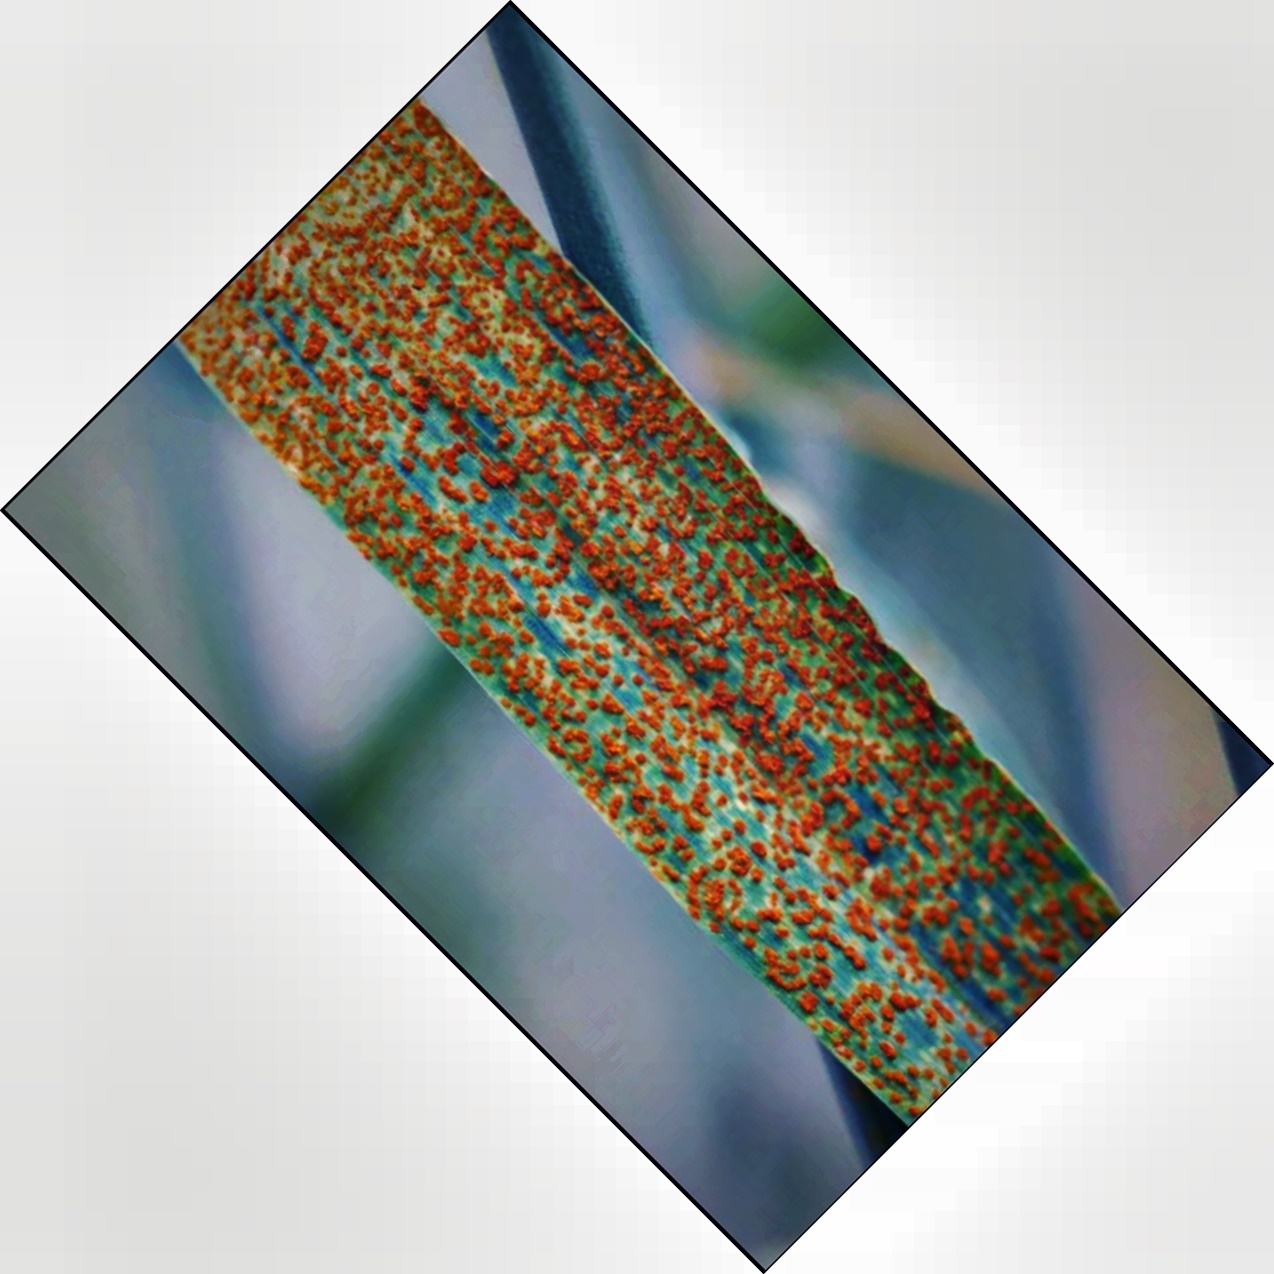Leaf Rust: (254, 217, 1062, 1041)
